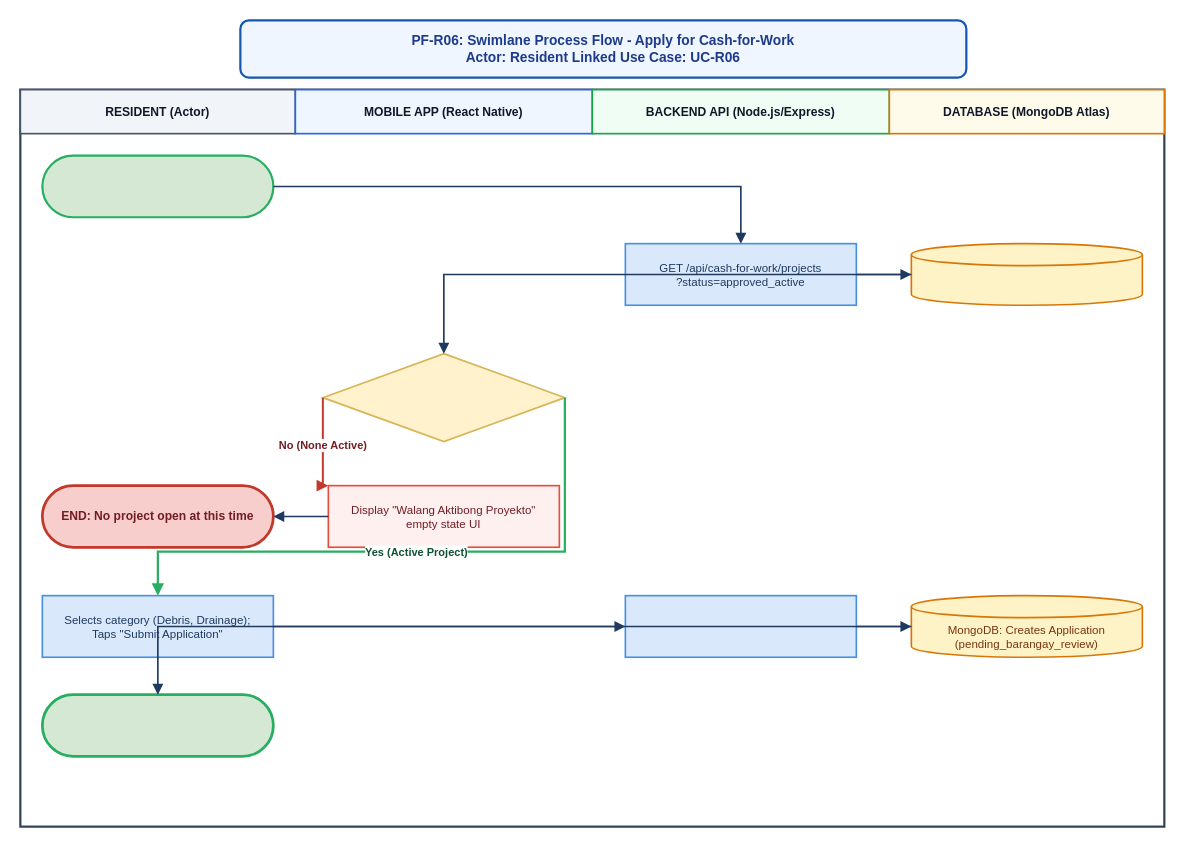
The diagram is 1184 pixels wide and 846 high, and some of its shapes have lost their labels. The shapes that lost their labels are listed below. From the top down, each one's centre as x and y in pixels, then its label:
the point at 157,186: START: Opens Livelihood tab
the point at 1026,274: MongoDB: Queries CashForWorkProjects matching resident barangay
the point at 443,397: Active approved CFW projects available in brgy?
the point at 740,626: POST /api/cash-for-work/apply Socket.IO alert to Barangay room
the point at 157,725: END: Application submitted; Awaits Barangay review (PF-BO06)
